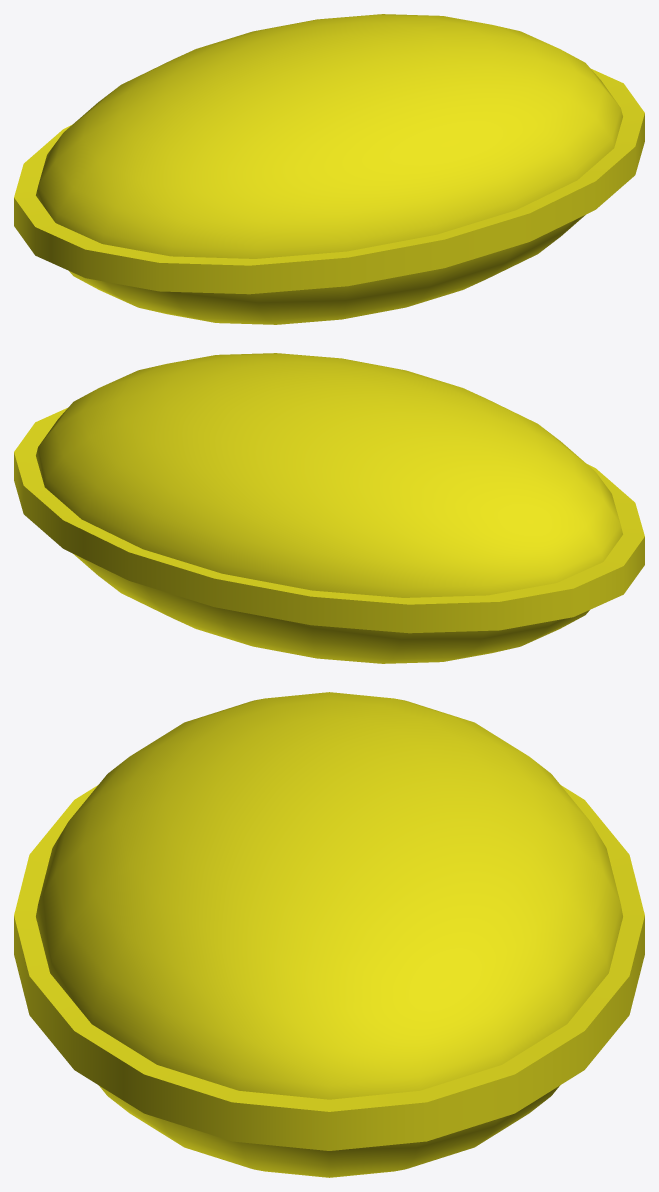
The model's file is MaxNiVal.fbx.
3 renders of one model, top to bottom at view 1: azimuth 30°, elevation 25°; view 2: azimuth 150°, elevation 25°; view 3: azimuth 270°, elevation 25°, orthographic. The views are drawn at different scales.
Visible parts, largest first — view 1: Sphere; view 2: Sphere; view 3: Sphere.
Part boxes in pixels (x1,y1,x2,y2): Sphere: (14, 14, 644, 324); Sphere: (14, 353, 644, 663); Sphere: (14, 692, 644, 1177).
Size of the model in its own units: 321 by 121 by 218.
